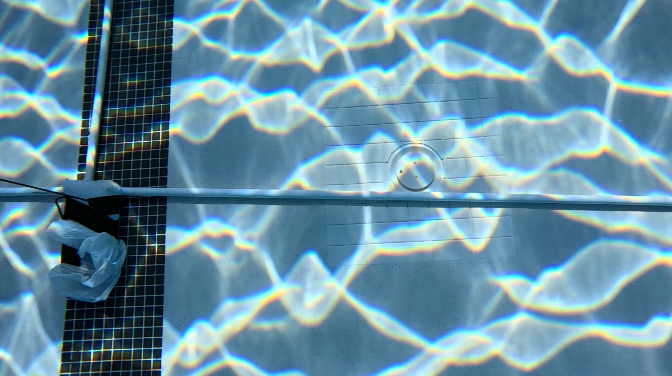sandbag: (45, 181, 127, 299)
